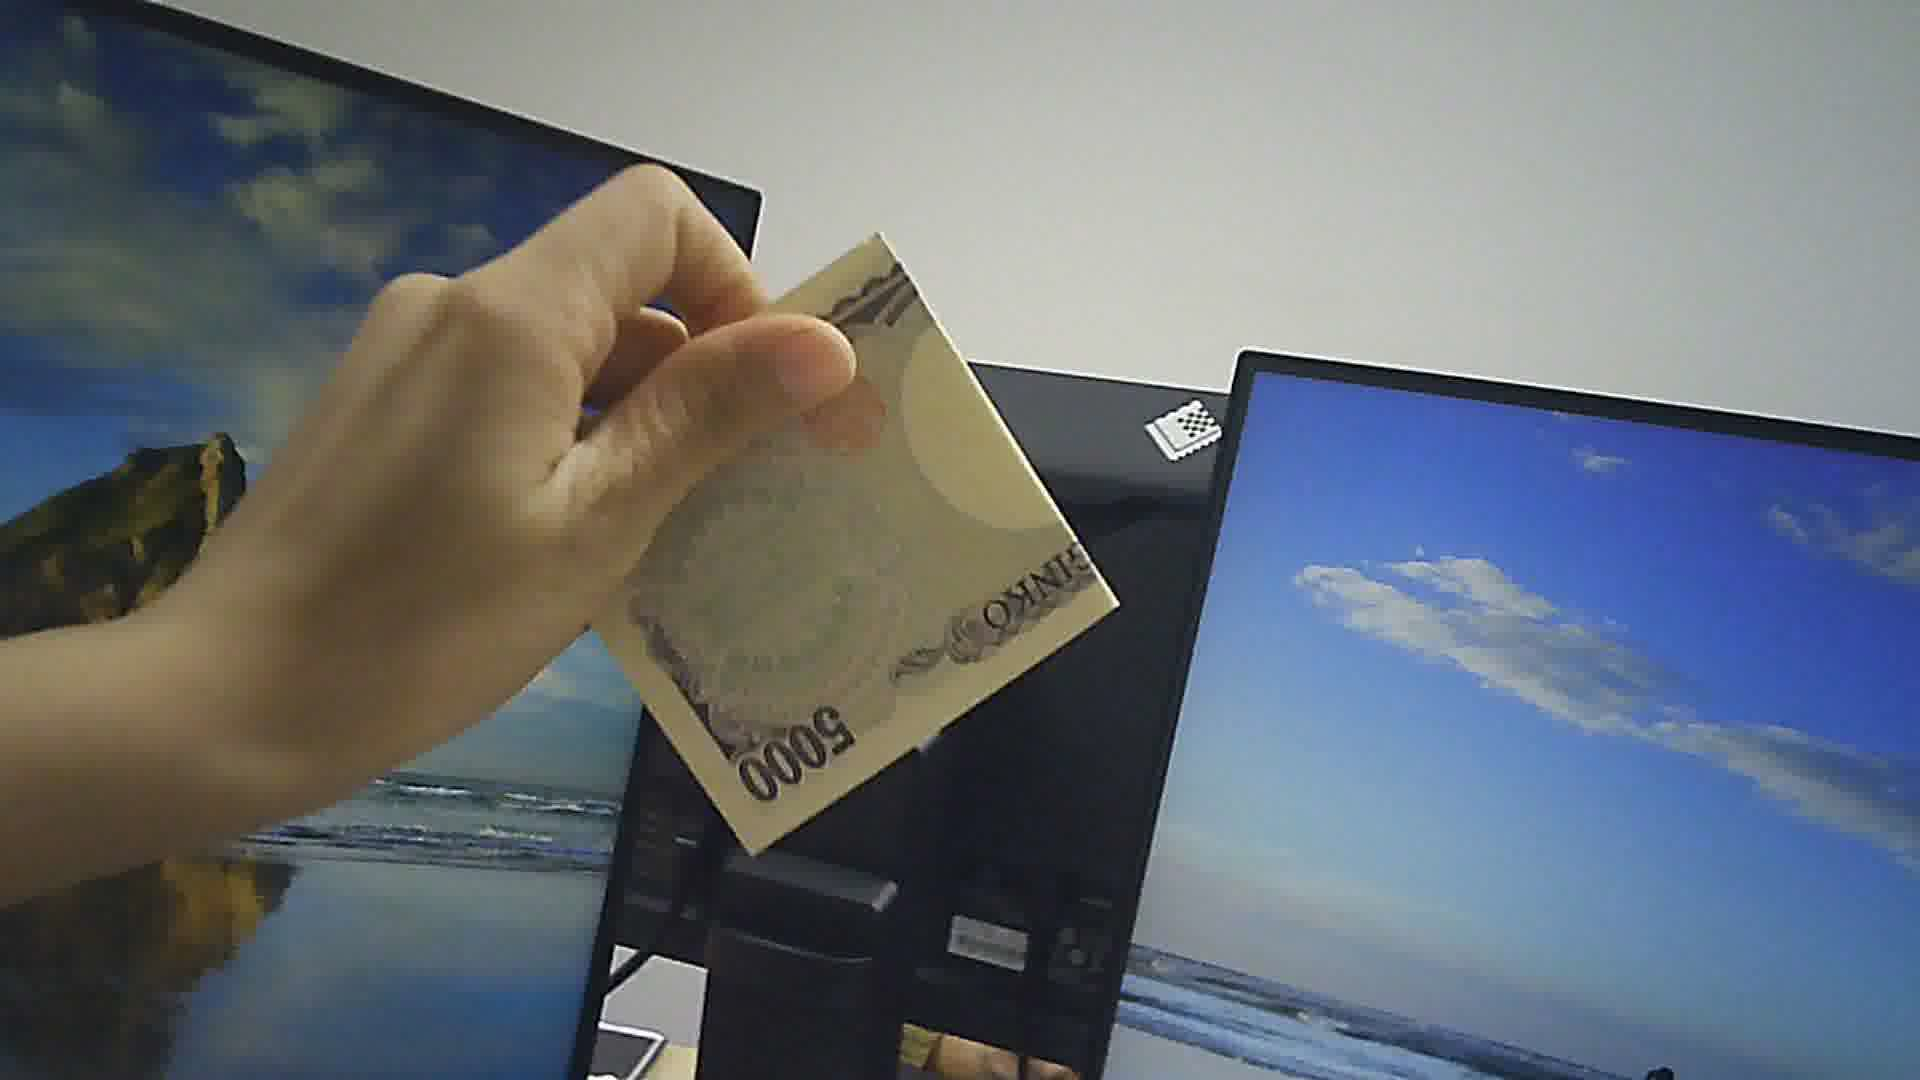5,000 Yen: (541, 232, 1167, 873)
